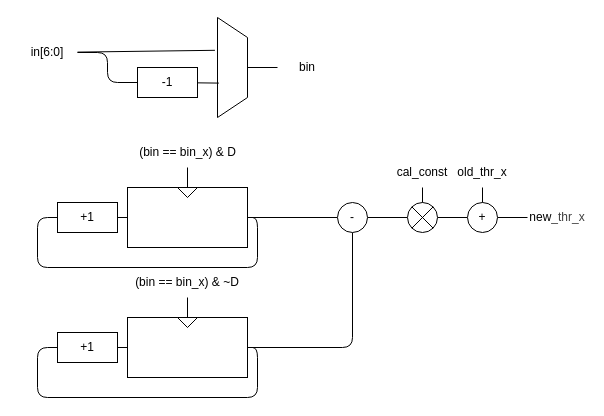
Image size: 604x416. Some labels were removed from this diagram. The centre of each missing label's shape, as x and y in pixels:
reg_bin_x_+: (187,217)
reg_bin_x_-: (187,347)
